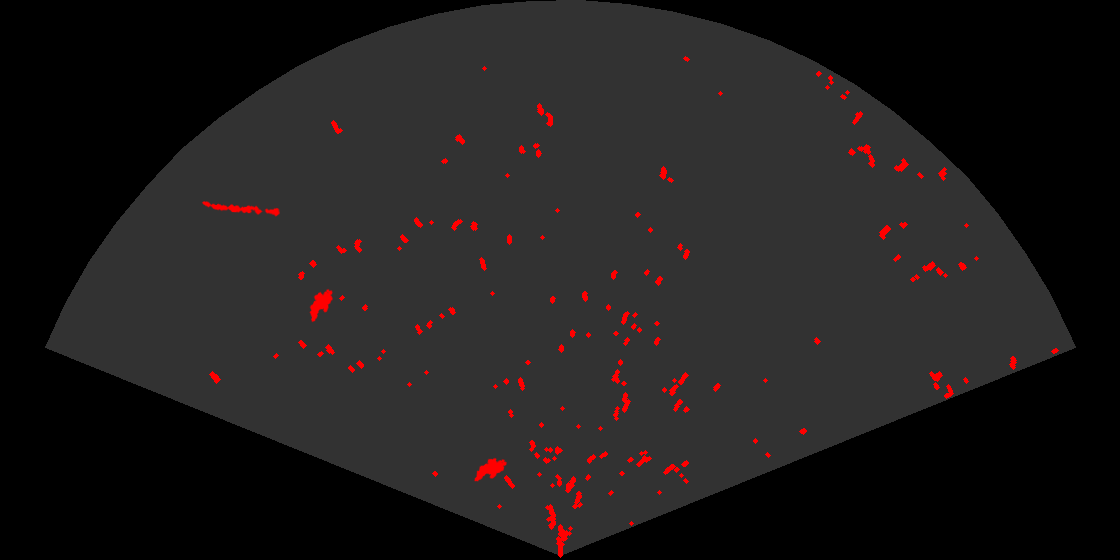AUV: (308, 287, 335, 324), (472, 456, 509, 483)
chain: (200, 200, 280, 218)
